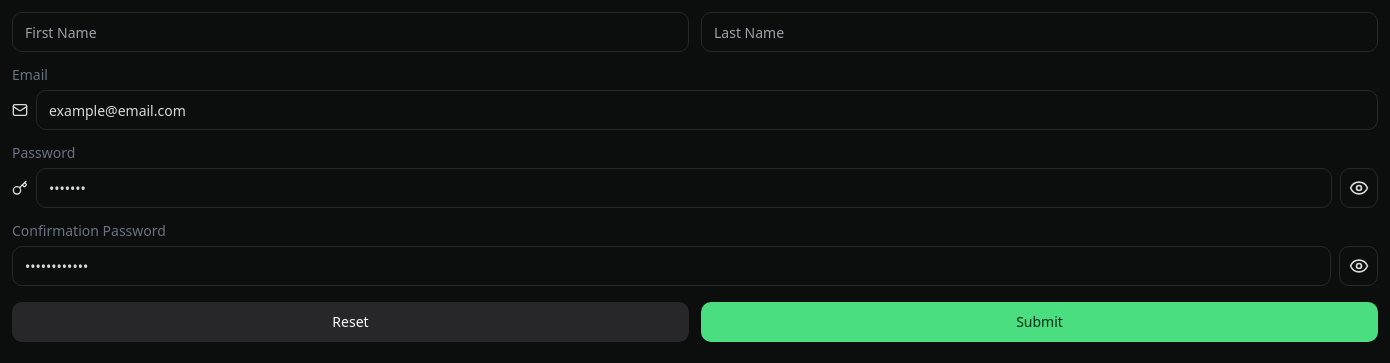
Test case: should reset the form fields when the reset button is clicked
In the field with placeholder "First Name": [350, 32] box [12,12,689,52], type "John"
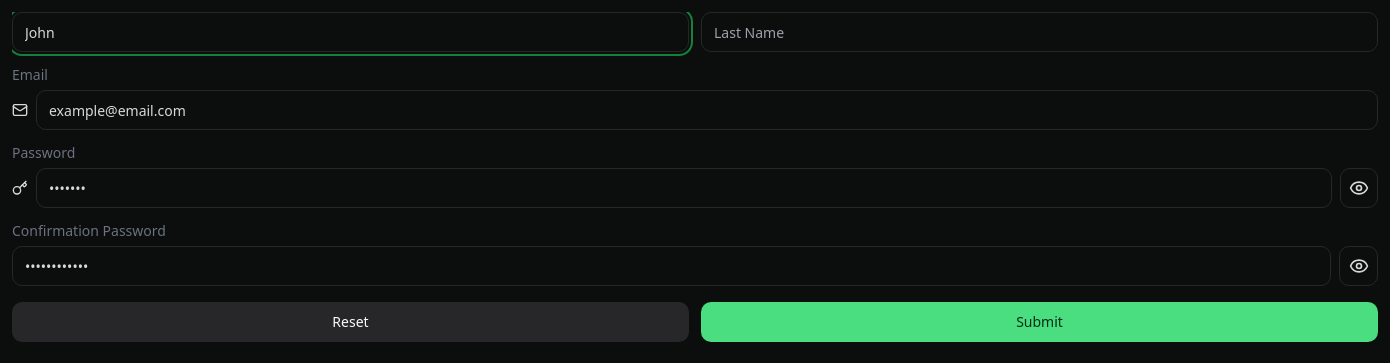
In the field with placeholder "Last Name": [1040, 32] box [701,12,1378,52], type "Doe"
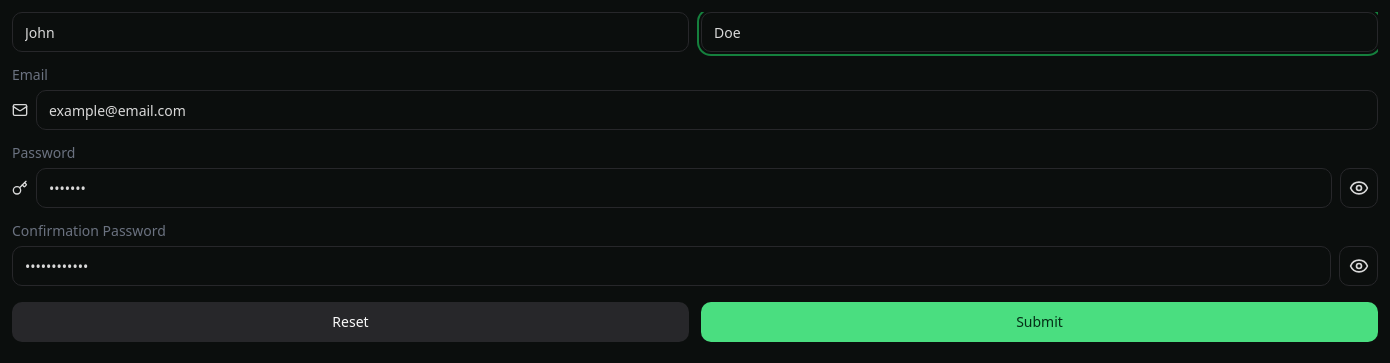
Replace the text in the field with placeholder "Email" with "john.doe@example.com": [707, 110] box [36,90,1378,130]
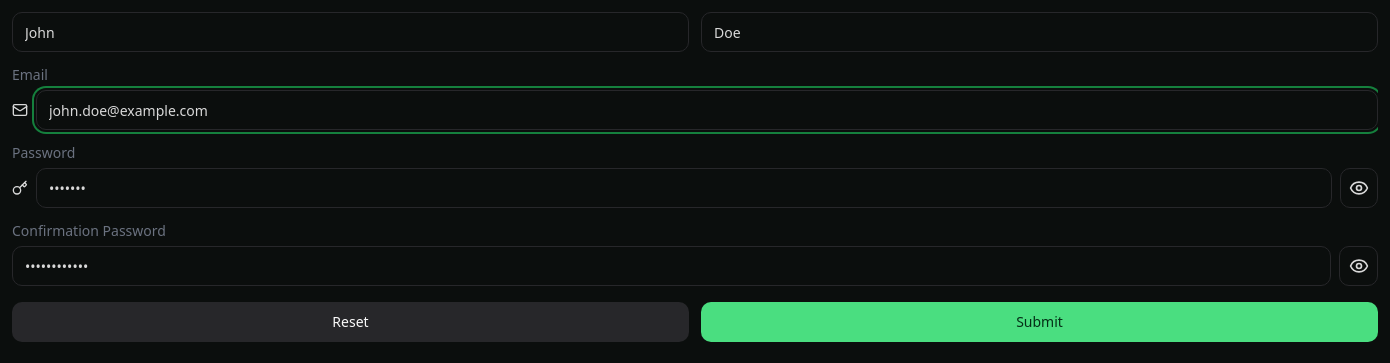
In the password field with placeholder "Password": [684, 188] box [36,168,1332,208], type "Password12345!"
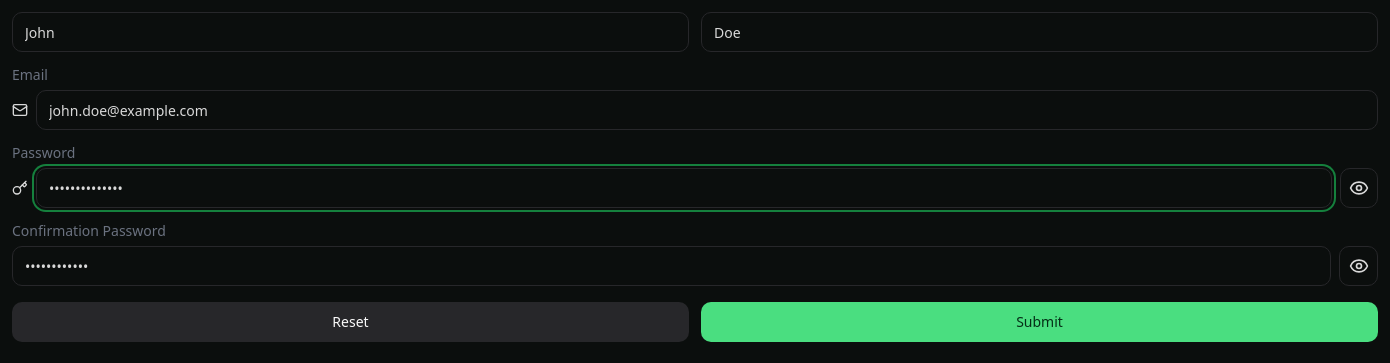
In the password field with placeholder "Confirmation Password": [672, 266] box [12,246,1331,286], type "Password12345!"
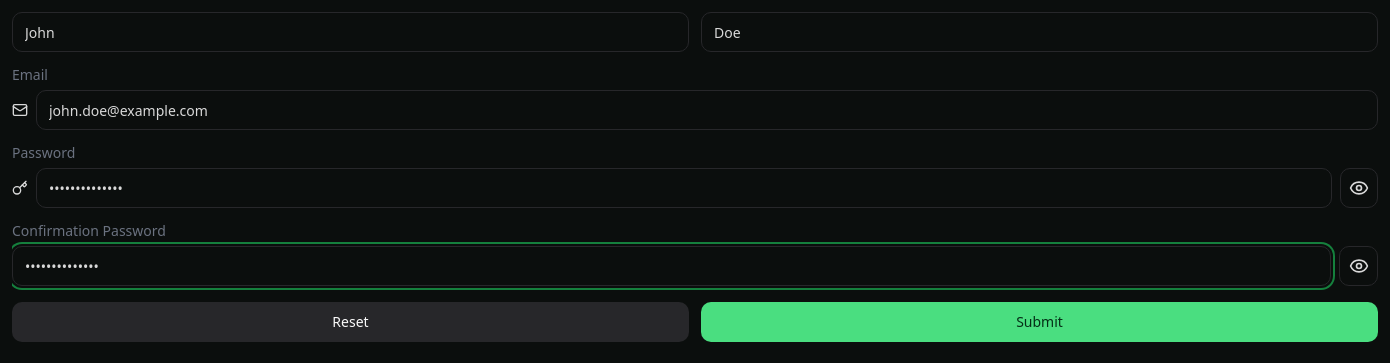
Click the button "Reset": [350, 322] box [12,302,689,342]
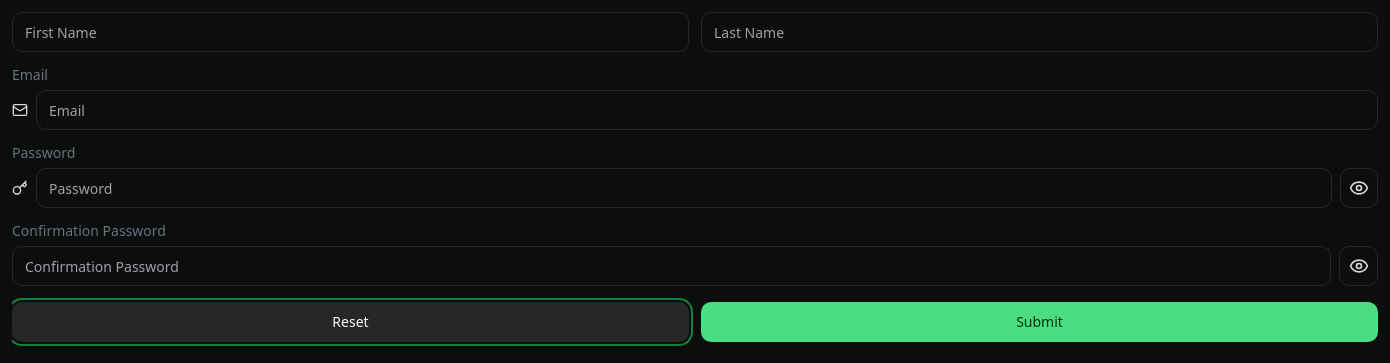
Expected: the field with placeholder "First Name" is empty, [12,12,689,52]
Expected: the field with placeholder "Last Name" is empty, [701,12,1378,52]
